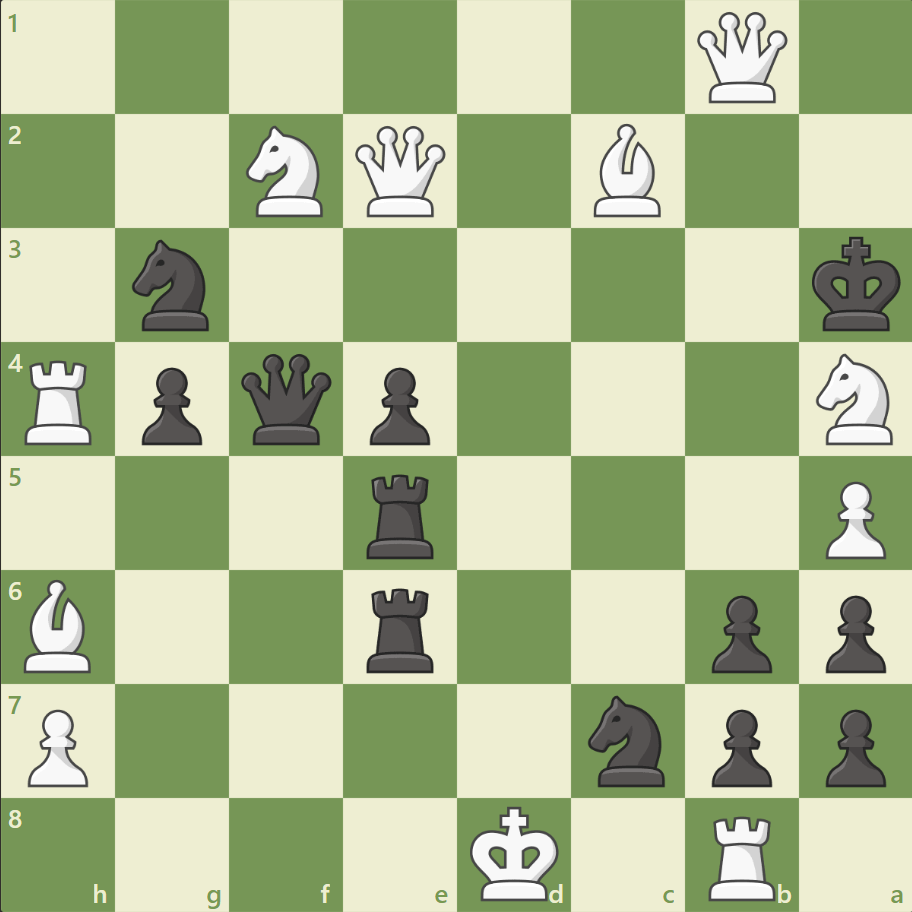B: (17, 574, 101, 676), (585, 120, 669, 222)
K: (465, 798, 565, 906)
N: (806, 348, 903, 450), (238, 121, 335, 223)
P: (20, 700, 95, 791), (815, 473, 889, 564)
Q: (351, 122, 450, 222), (691, 9, 790, 108)
R: (700, 806, 783, 904), (19, 352, 102, 449)
k: (806, 231, 906, 339)
n: (124, 234, 222, 337), (579, 688, 676, 791)
p: (701, 700, 776, 791), (701, 586, 776, 677), (133, 359, 208, 450), (815, 700, 889, 791), (815, 586, 889, 677), (361, 359, 435, 450)
q: (237, 349, 336, 449)
r: (360, 579, 442, 676), (360, 466, 442, 563)
